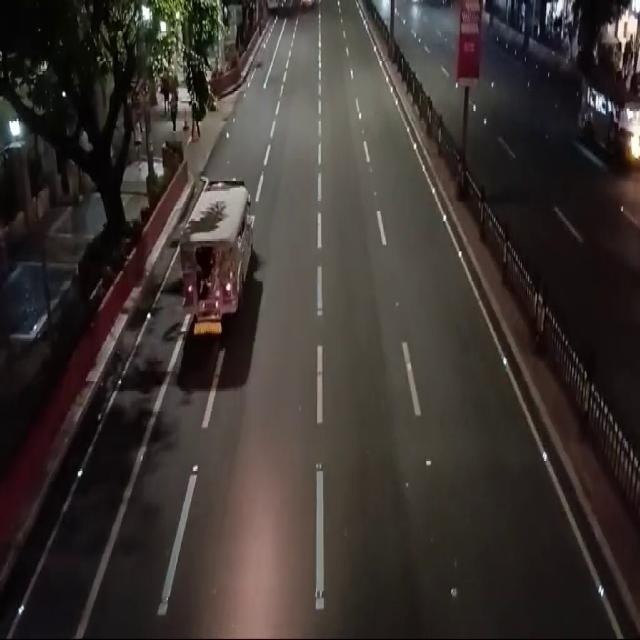jeepney: (181, 172, 251, 341)
